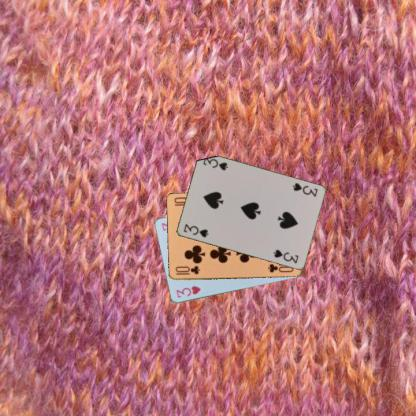10c: (173, 264, 201, 276)
3h: (173, 284, 202, 299)
3s: (289, 180, 319, 198), (181, 221, 210, 239)
